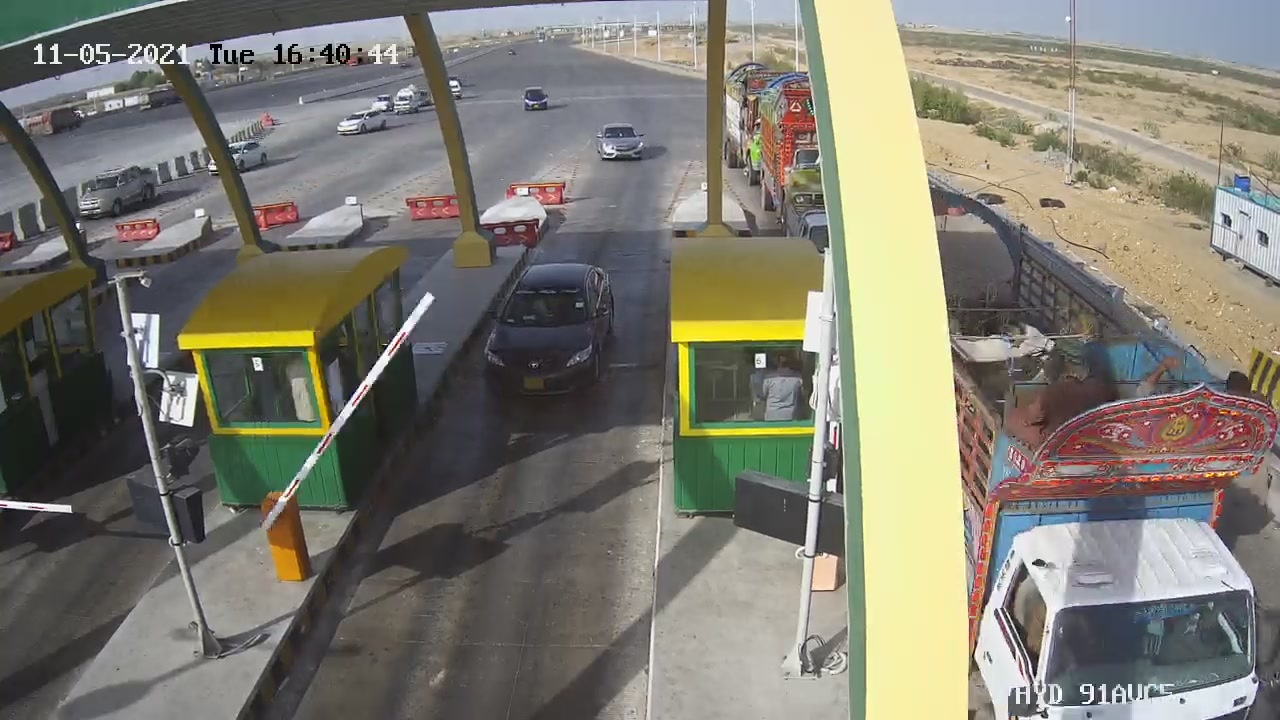F1: (470, 255, 628, 414)
